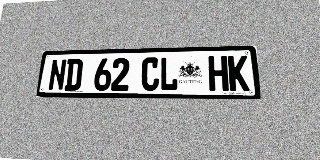2: (111, 58, 130, 91)
6: (93, 58, 112, 91)
C: (141, 57, 159, 91)
D: (64, 59, 83, 91)
H: (208, 56, 229, 91)
K: (228, 55, 250, 91)
L: (159, 57, 178, 91)
N: (48, 59, 67, 91)
